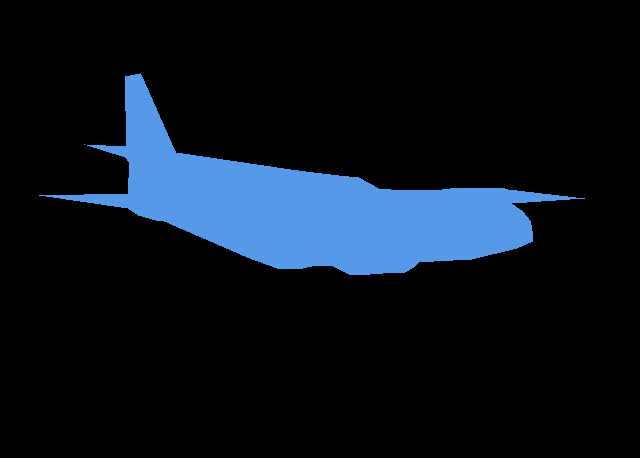Airplane: (39, 73, 585, 275)
